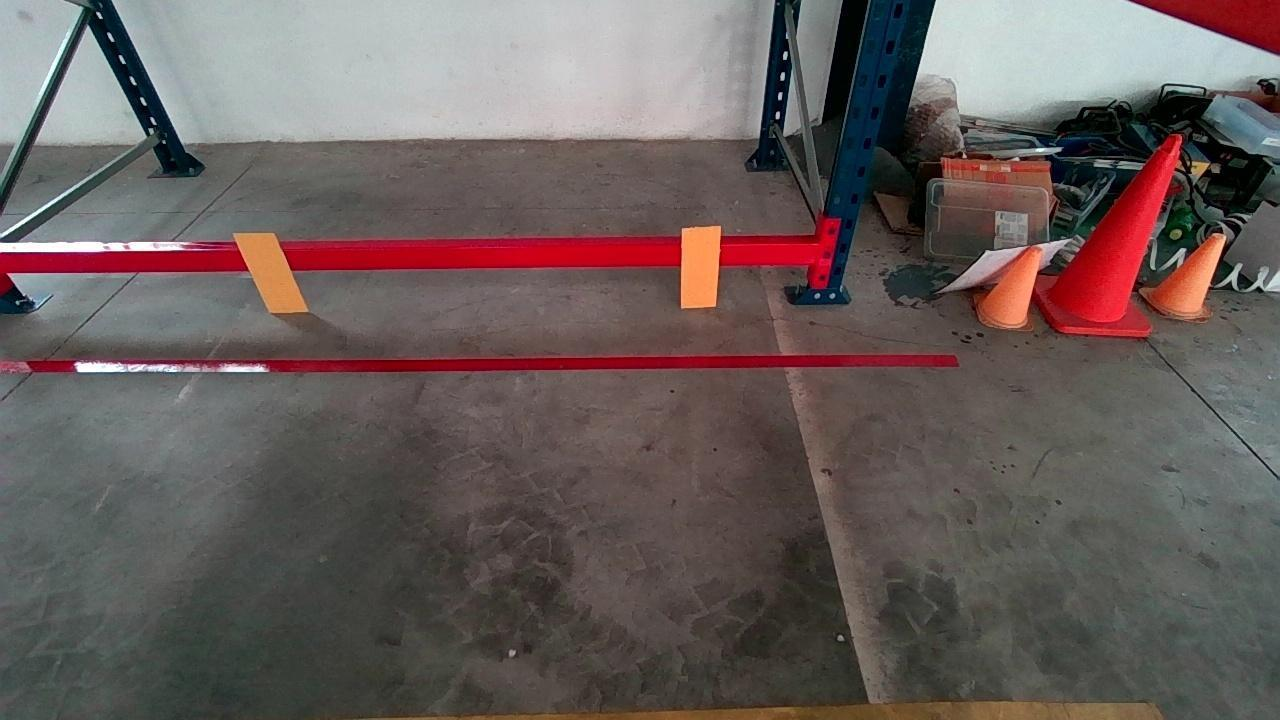h_rack: (8, 235, 827, 277)
orange_strip: (233, 232, 307, 311), (680, 225, 721, 306)
red_line: (0, 354, 958, 374)
